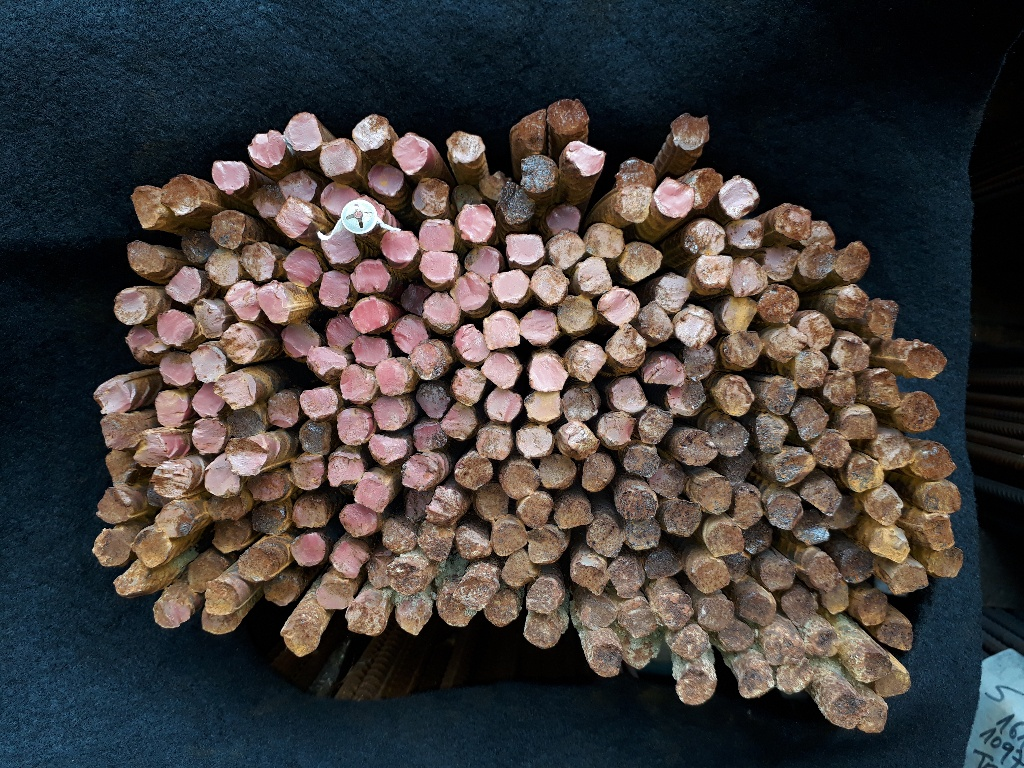dipstick: (675, 305, 715, 346), (508, 109, 546, 152), (606, 325, 646, 365), (607, 556, 645, 598), (557, 421, 600, 458), (799, 480, 842, 517), (911, 445, 956, 480), (655, 177, 694, 217), (523, 613, 567, 648), (131, 186, 165, 231), (759, 285, 799, 323), (620, 599, 660, 637), (717, 375, 754, 416), (721, 177, 757, 219), (587, 516, 623, 558), (792, 399, 829, 439), (866, 486, 903, 526), (164, 175, 200, 216), (621, 243, 662, 279), (675, 669, 716, 705), (223, 323, 258, 365), (226, 439, 268, 474), (570, 556, 608, 594), (566, 141, 605, 178), (558, 295, 597, 332), (330, 542, 369, 579), (280, 619, 320, 655), (395, 593, 431, 633), (599, 289, 640, 324), (689, 557, 730, 592), (905, 344, 947, 378), (320, 139, 357, 177), (131, 530, 170, 566), (501, 461, 540, 497), (393, 133, 427, 174), (762, 632, 805, 664), (873, 432, 910, 469), (285, 112, 321, 150), (190, 554, 226, 592), (664, 500, 702, 536), (903, 391, 938, 430), (775, 450, 814, 485), (656, 595, 695, 630), (527, 529, 567, 563), (830, 338, 870, 372), (547, 99, 588, 132), (522, 156, 559, 192), (615, 186, 651, 223), (340, 365, 377, 401), (570, 343, 606, 380), (93, 530, 130, 566), (455, 453, 492, 489), (680, 430, 717, 466), (686, 220, 724, 255), (531, 265, 566, 303), (426, 489, 464, 524), (836, 242, 871, 280), (738, 589, 776, 624), (529, 356, 568, 390), (439, 586, 473, 625), (278, 198, 311, 238), (152, 463, 192, 496), (206, 456, 239, 496), (755, 414, 788, 454), (345, 603, 386, 635), (868, 298, 899, 340), (656, 274, 692, 310), (249, 130, 284, 167), (127, 239, 164, 274), (548, 231, 583, 268), (671, 113, 708, 148), (484, 310, 519, 347), (526, 578, 561, 615), (706, 523, 743, 558), (826, 693, 861, 730), (413, 178, 447, 216), (455, 272, 489, 310), (758, 556, 796, 590), (871, 528, 909, 562), (286, 247, 319, 286), (640, 303, 673, 342), (798, 246, 837, 279), (723, 333, 762, 366), (767, 329, 806, 362), (699, 475, 732, 514), (643, 356, 684, 387), (732, 486, 763, 527), (166, 267, 201, 303), (158, 310, 194, 345), (577, 258, 613, 293), (815, 432, 850, 468), (586, 223, 623, 257), (520, 310, 557, 344), (600, 410, 634, 447), (668, 380, 705, 414), (672, 626, 709, 660), (344, 197, 382, 230), (227, 282, 260, 320), (423, 295, 461, 328), (218, 375, 256, 408), (155, 390, 188, 428), (93, 381, 131, 414), (100, 415, 138, 448), (796, 349, 828, 388), (579, 597, 618, 629), (851, 652, 892, 682), (353, 115, 388, 150), (458, 205, 493, 240), (732, 258, 767, 293), (612, 378, 647, 413), (96, 489, 132, 523), (451, 369, 485, 405), (839, 549, 875, 583), (212, 160, 249, 193), (776, 203, 809, 240), (799, 312, 832, 349), (693, 168, 722, 210), (501, 183, 533, 221), (212, 209, 244, 247), (581, 454, 613, 492), (241, 245, 275, 280), (403, 455, 438, 489), (382, 519, 417, 553), (723, 297, 758, 331), (159, 351, 195, 384), (493, 269, 529, 302), (455, 324, 488, 360), (213, 521, 249, 554), (698, 599, 734, 632), (793, 512, 829, 545), (322, 230, 359, 262), (766, 245, 798, 282), (824, 369, 856, 406), (922, 482, 960, 513), (516, 426, 555, 456), (618, 489, 657, 519), (368, 161, 402, 195), (372, 396, 406, 430), (443, 404, 477, 438), (500, 553, 534, 587), (639, 410, 673, 444), (714, 423, 748, 457), (411, 344, 446, 377), (238, 549, 273, 582), (781, 590, 816, 623), (114, 288, 146, 324), (267, 392, 299, 428), (258, 285, 289, 322), (319, 270, 350, 307), (352, 261, 389, 292), (351, 299, 388, 330), (156, 505, 193, 536), (153, 597, 190, 628), (340, 505, 377, 536), (629, 633, 660, 670), (300, 388, 338, 418), (645, 549, 684, 578), (889, 565, 928, 594), (193, 419, 226, 453), (486, 388, 520, 421), (486, 593, 519, 627), (834, 284, 868, 317), (467, 246, 499, 281), (416, 383, 448, 418), (477, 428, 512, 460), (764, 379, 796, 414), (808, 557, 840, 592), (419, 220, 455, 251), (282, 325, 318, 356), (624, 520, 660, 551), (869, 369, 899, 406), (457, 576, 496, 604), (873, 669, 912, 697), (394, 319, 426, 353), (493, 523, 527, 555), (589, 643, 621, 677), (193, 345, 224, 380), (484, 353, 515, 388), (477, 485, 508, 520), (650, 466, 685, 497), (447, 131, 484, 160), (368, 436, 406, 464), (205, 582, 238, 614), (683, 347, 715, 380), (377, 361, 408, 395), (105, 451, 136, 485), (337, 409, 368, 443), (457, 526, 491, 557), (924, 515, 955, 549), (616, 159, 655, 186), (208, 249, 238, 284), (697, 255, 732, 285), (326, 316, 356, 351), (136, 431, 166, 466), (328, 454, 363, 484), (251, 502, 286, 532), (848, 461, 883, 491), (382, 232, 418, 261), (540, 459, 576, 488), (777, 665, 813, 694), (506, 235, 543, 263), (316, 582, 353, 610), (228, 409, 266, 436), (356, 480, 388, 512), (192, 385, 225, 416), (292, 534, 325, 565), (563, 389, 597, 419), (413, 420, 447, 450), (858, 591, 888, 625), (321, 184, 356, 213), (300, 420, 329, 455), (623, 446, 658, 475), (195, 301, 223, 337), (352, 337, 388, 365), (388, 564, 424, 592), (928, 549, 964, 577), (419, 251, 456, 278), (555, 500, 592, 527), (727, 220, 762, 248), (525, 392, 560, 420), (738, 669, 773, 697), (249, 473, 285, 500), (877, 623, 913, 650), (292, 458, 323, 489), (519, 495, 549, 527), (859, 701, 888, 734), (718, 623, 753, 650), (127, 328, 166, 352), (182, 230, 212, 261), (253, 184, 282, 216), (265, 577, 298, 605), (282, 173, 316, 200), (841, 413, 876, 439), (309, 348, 345, 373), (830, 497, 860, 527), (116, 568, 147, 597), (726, 452, 755, 483), (292, 501, 326, 527), (401, 284, 430, 314), (480, 171, 509, 200), (549, 206, 579, 234), (807, 628, 837, 656), (822, 582, 848, 614), (743, 523, 771, 552), (201, 614, 239, 635), (407, 492, 434, 521), (208, 498, 245, 519), (806, 221, 835, 247), (369, 556, 388, 588), (453, 184, 480, 205)
